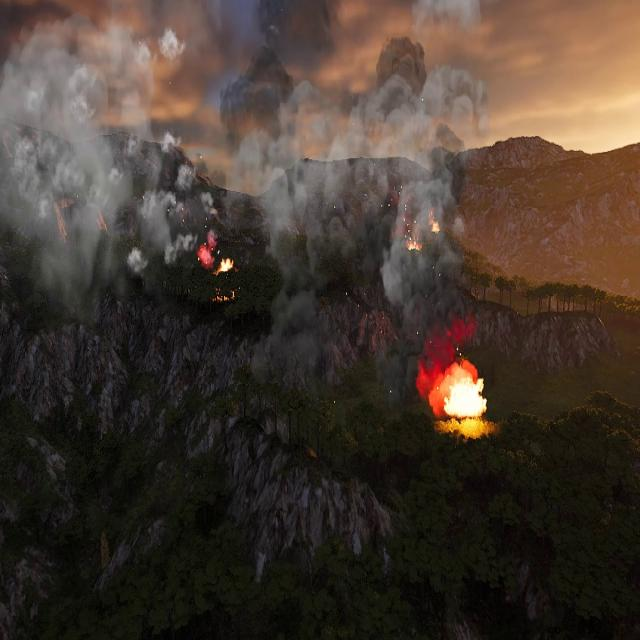fire: (442, 359, 486, 418), (428, 208, 441, 233), (404, 236, 422, 252), (218, 259, 232, 274)
smoke: (0, 0, 489, 427)
